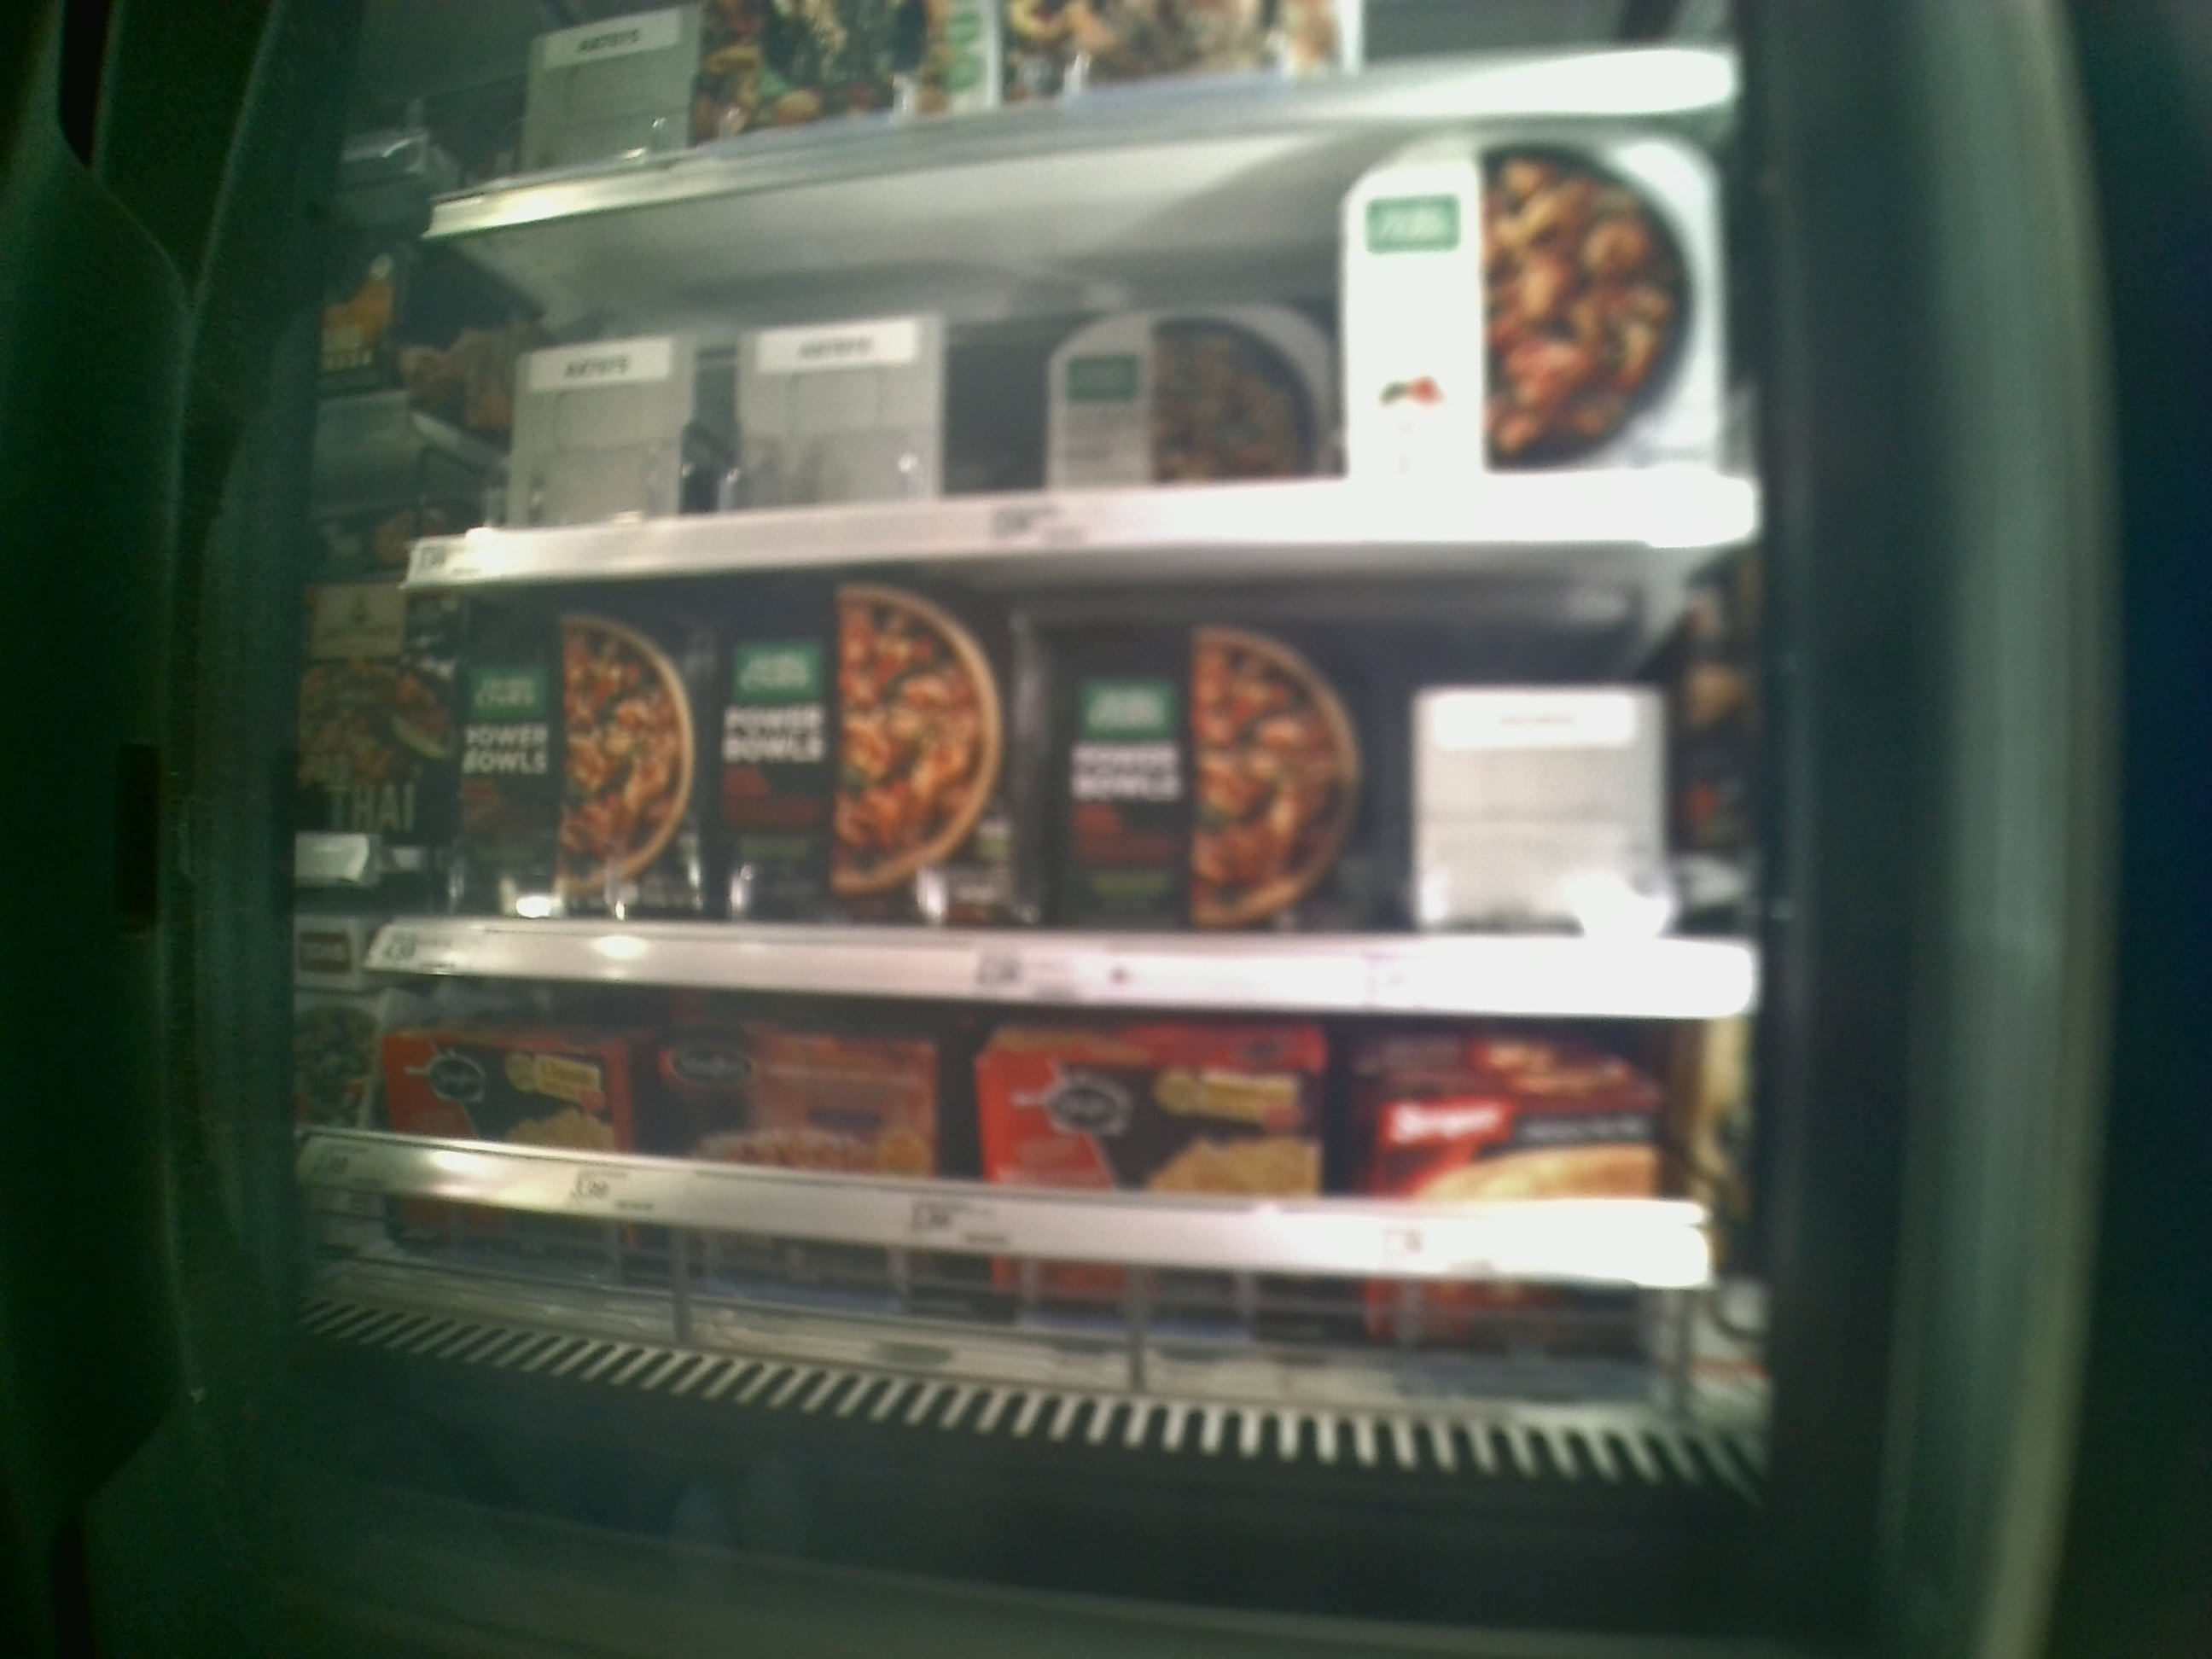shelf: (406, 540, 1754, 1018), (411, 106, 1747, 575), (366, 962, 1743, 1405)
